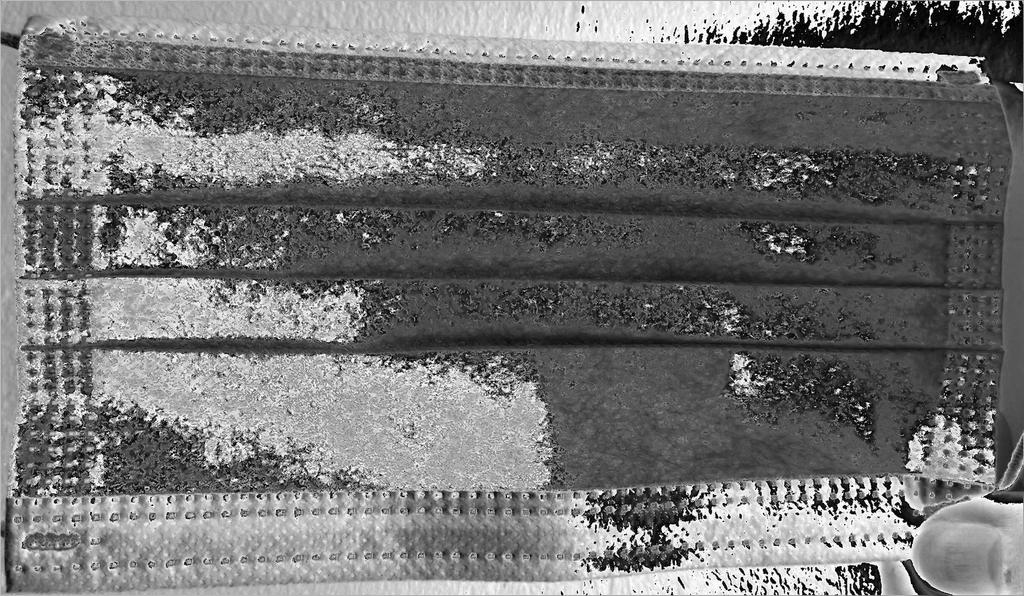Low GSM: (84, 73, 940, 475)
